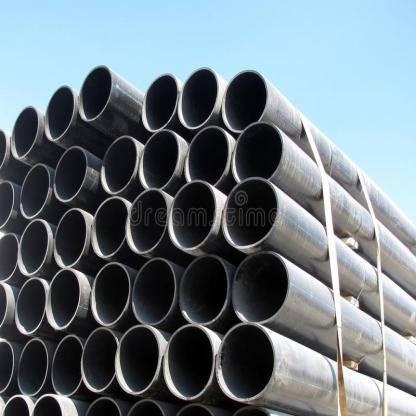pipe: (216, 322, 276, 402), (222, 177, 280, 249), (232, 251, 290, 323), (163, 324, 215, 400), (179, 254, 229, 324), (168, 180, 217, 250), (114, 324, 162, 394), (232, 122, 284, 181), (132, 257, 176, 325), (221, 70, 268, 132), (125, 189, 168, 255), (80, 327, 120, 393), (185, 126, 230, 184), (178, 67, 220, 128), (91, 262, 131, 326), (139, 129, 180, 191), (91, 196, 129, 258), (142, 73, 179, 132), (46, 268, 81, 330), (100, 136, 138, 193), (52, 334, 84, 397), (54, 208, 87, 268), (78, 66, 113, 122), (54, 146, 88, 202), (44, 85, 76, 142), (14, 277, 46, 334), (18, 218, 49, 276), (18, 338, 49, 396), (19, 163, 50, 218), (10, 106, 39, 160), (0, 180, 15, 229)
